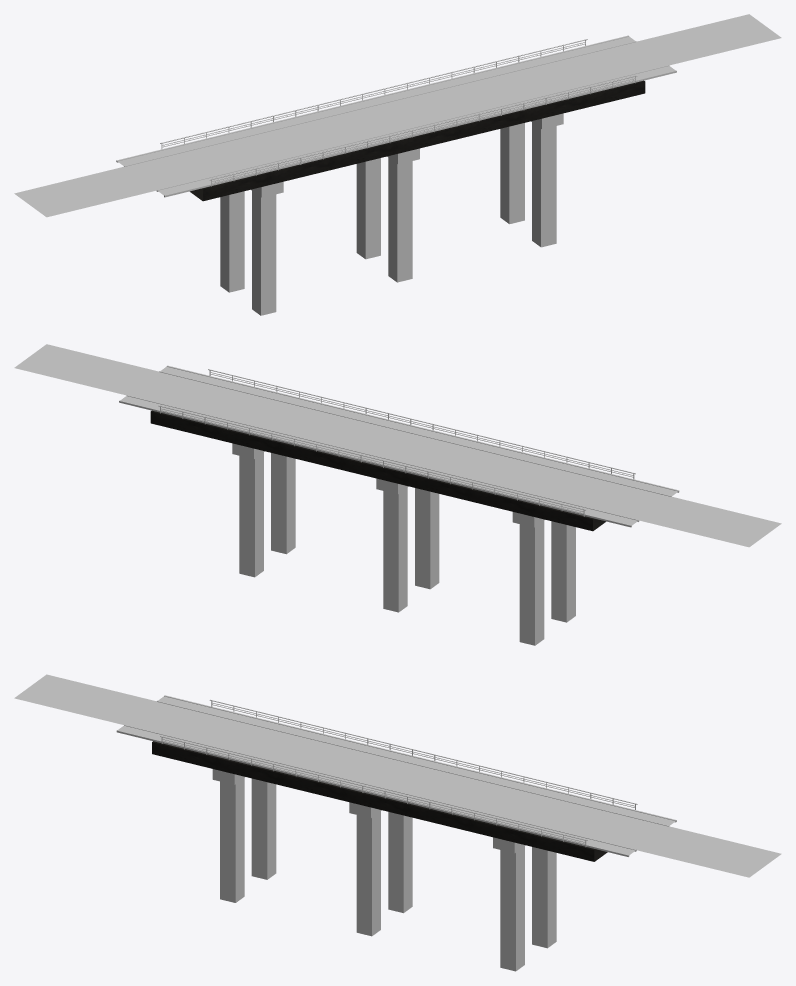
Rendered from Bridge04.fbx.
3 renders of one model, top to bottom at view 1: azimuth 30°, elevation 25°; view 2: azimuth 150°, elevation 25°; view 3: azimuth 330°, elevation 25°, orthographic.
Visible parts, largest first — view 1: Bridge04; view 2: Bridge04; view 3: Bridge04.
Boxes of the visible parts, x1,y1,x2,y2 form: Bridge04: (14, 14, 781, 315); Bridge04: (14, 344, 781, 645); Bridge04: (14, 674, 781, 971).
Size of the model in its own units: 13008 by 2584 by 1562.
